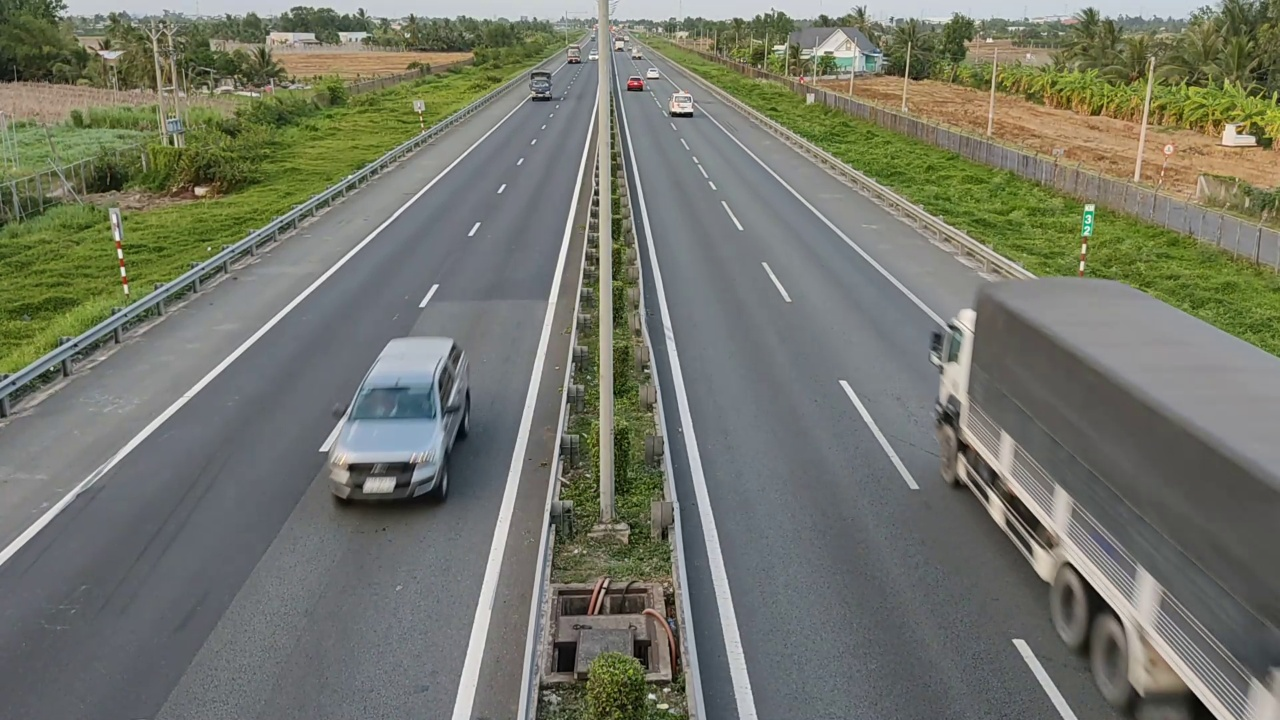car: (325, 335, 473, 505), (668, 91, 694, 116)
truck: (927, 275, 1279, 715)
